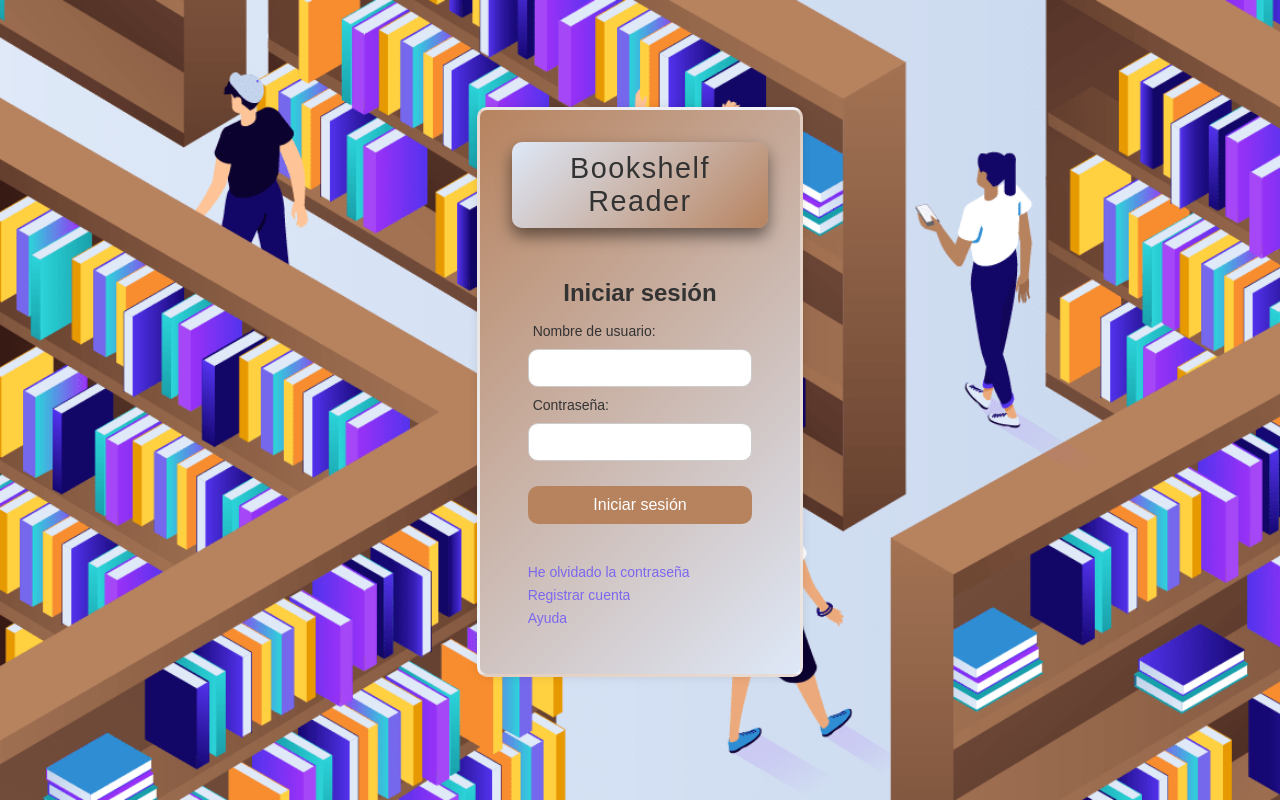
Login Component › Comprobar que muestra un mensaje de alerta cuando se envía el correo para recuperar la contraseña
This screenshot has width=1280, height=800.
Click the link "He olvidado la contraseña" at (609, 572), box [528,564,690,580]
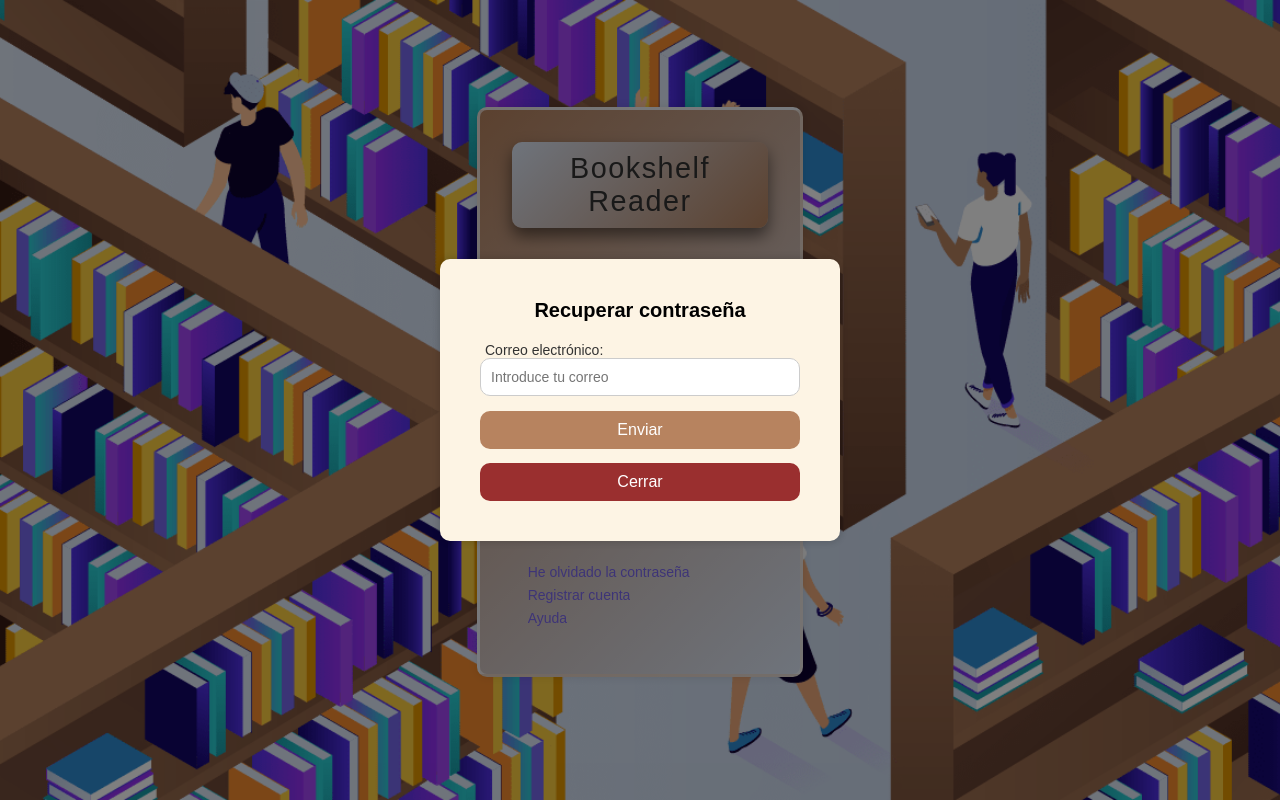
Now the heading "Recuperar contraseña" is shown, box [534,299,746,321]
Type "test@correo.com" into the field with placeholder "Introduce tu correo" at (640, 377), box [480,358,800,396]
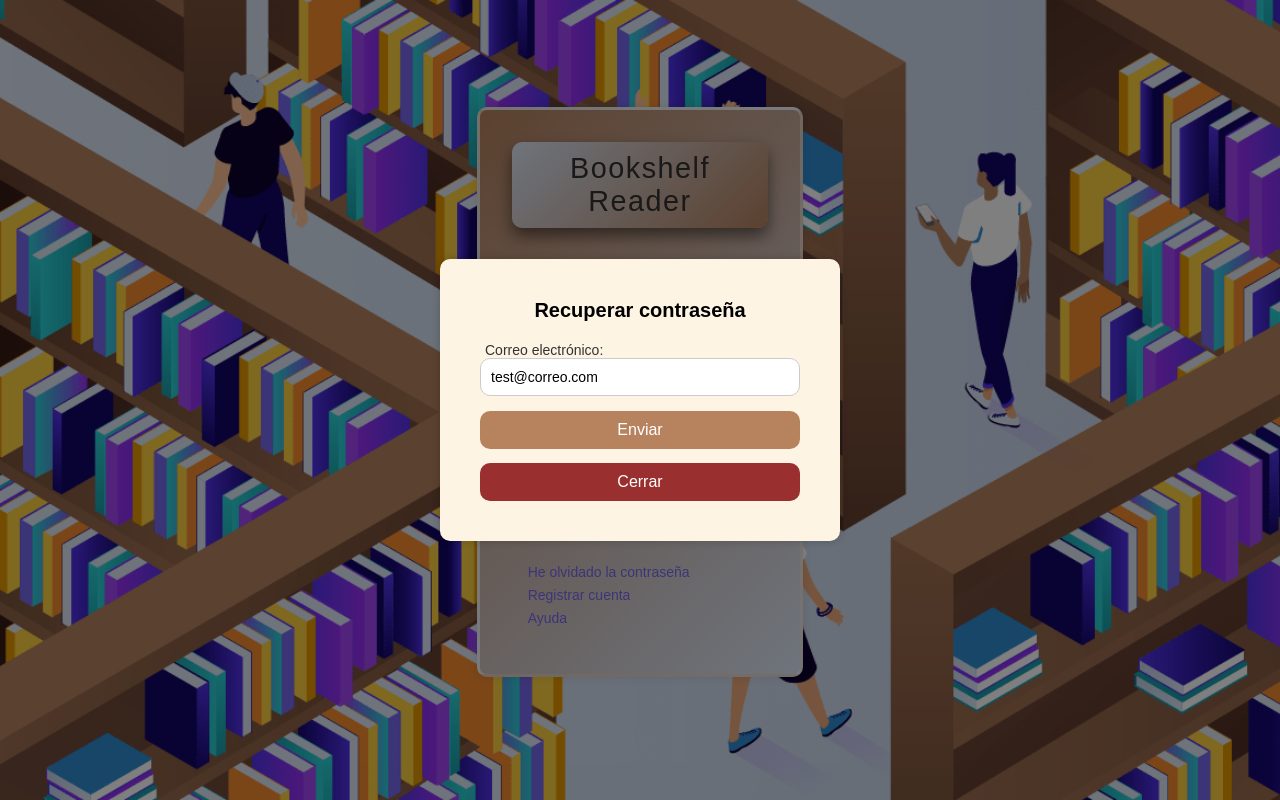
Click the button "Enviar" at (640, 430), box [480,411,800,449]
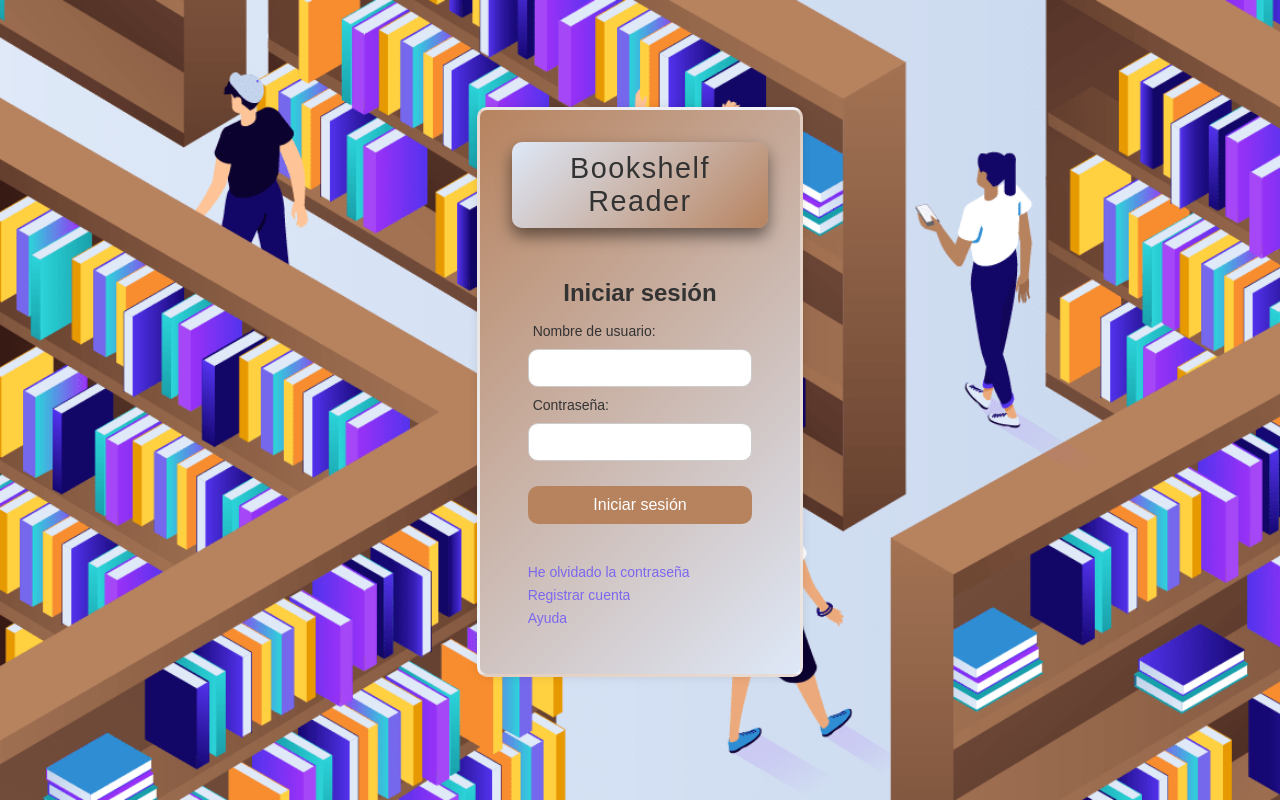
Now the heading "Recuperar contraseña" is gone
